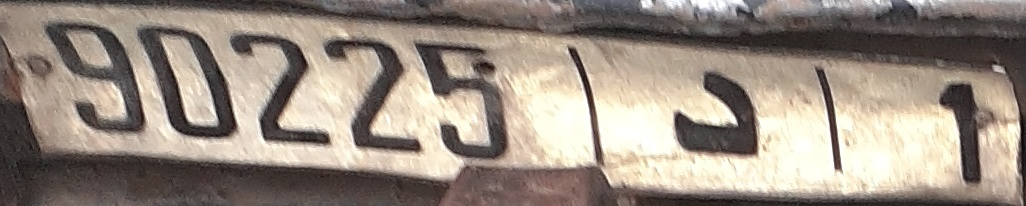0: (136, 25, 240, 139)
1: (930, 78, 987, 185)
2: (227, 35, 333, 148), (324, 35, 421, 153)
5: (411, 38, 513, 162)
9: (44, 19, 149, 133)
d: (664, 66, 762, 157)
